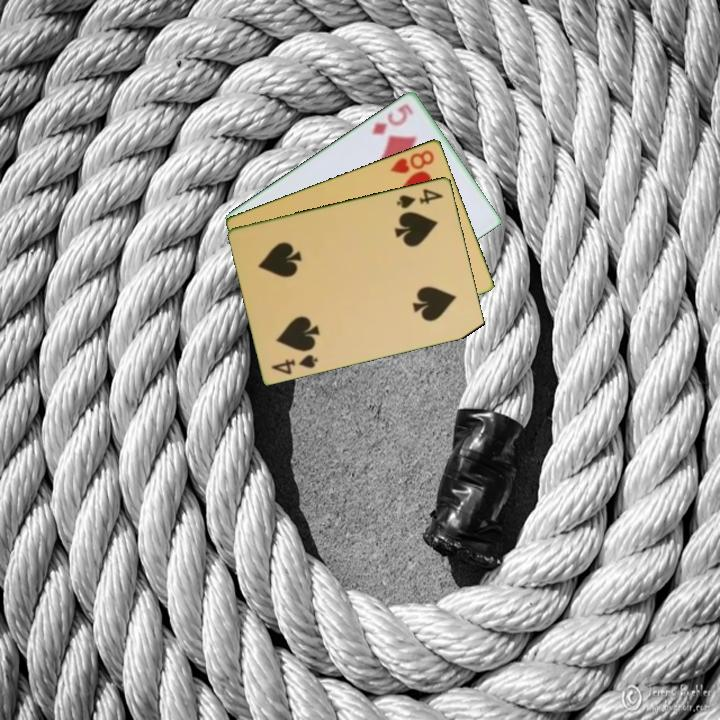4s: (268, 350, 321, 377), (393, 185, 446, 211)
5d: (368, 100, 416, 138)
8h: (387, 146, 437, 176)
